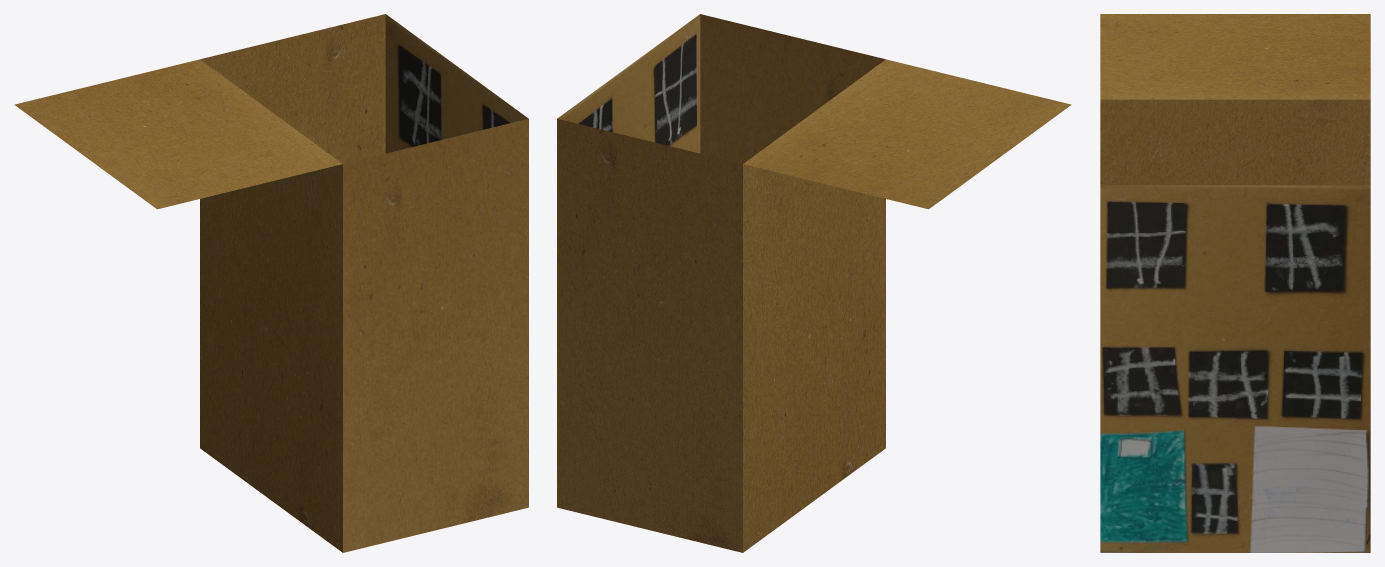
The picture shows the model from 3 angles, left to right: view 1: azimuth 30°, elevation 25°; view 2: azimuth 150°, elevation 25°; view 3: azimuth 270°, elevation 25°; orthographic projection. The views are drawn at different scales.
Visible parts, largest first — view 1: Cube, Cube.003, Cube.002; view 2: Cube, Cube.003, Cube.002; view 3: Cube, Cube.003, Cube.002.
Part boxes in pixels (x1=…): Cube: x1=200, y1=118, x2=528, y2=552; Cube.003: x1=200, y1=14, x2=528, y2=163; Cube.002: x1=14, y1=59, x2=342, y2=209; Cube: x1=557, y1=118, x2=885, y2=552; Cube.003: x1=557, y1=14, x2=885, y2=163; Cube.002: x1=743, y1=59, x2=1071, y2=209; Cube: x1=1100, y1=185, x2=1370, y2=552; Cube.003: x1=1100, y1=99, x2=1370, y2=185; Cube.002: x1=1100, y1=14, x2=1370, y2=99.
Size of the model in its own units: 15 by 15 by 10.
1 material, 1 textured.
